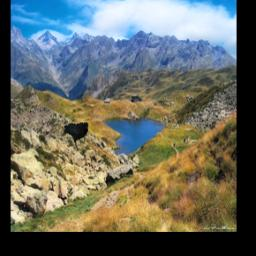Crow: (65, 121, 89, 150)
